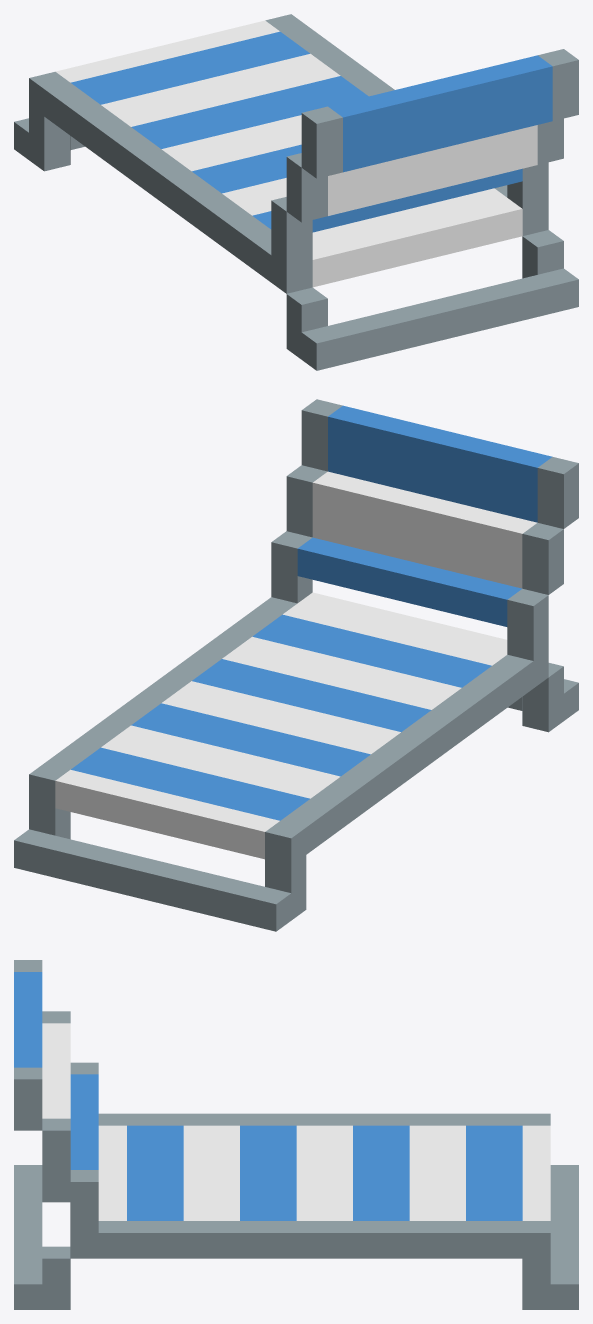
File: beach-chair-blue-stripe.obj
3 renders of one model, top to bottom at view 1: azimuth 30°, elevation 25°; view 2: azimuth 150°, elevation 25°; view 3: azimuth 270°, elevation 25°, orthographic. The views are drawn at different scales.
Bounding box in the file's own units: 1 × 0.9 × 2.
1 material, 1 textured.
